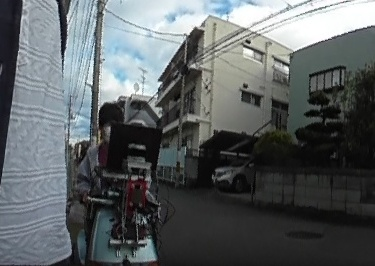person: (67, 103, 142, 266)
